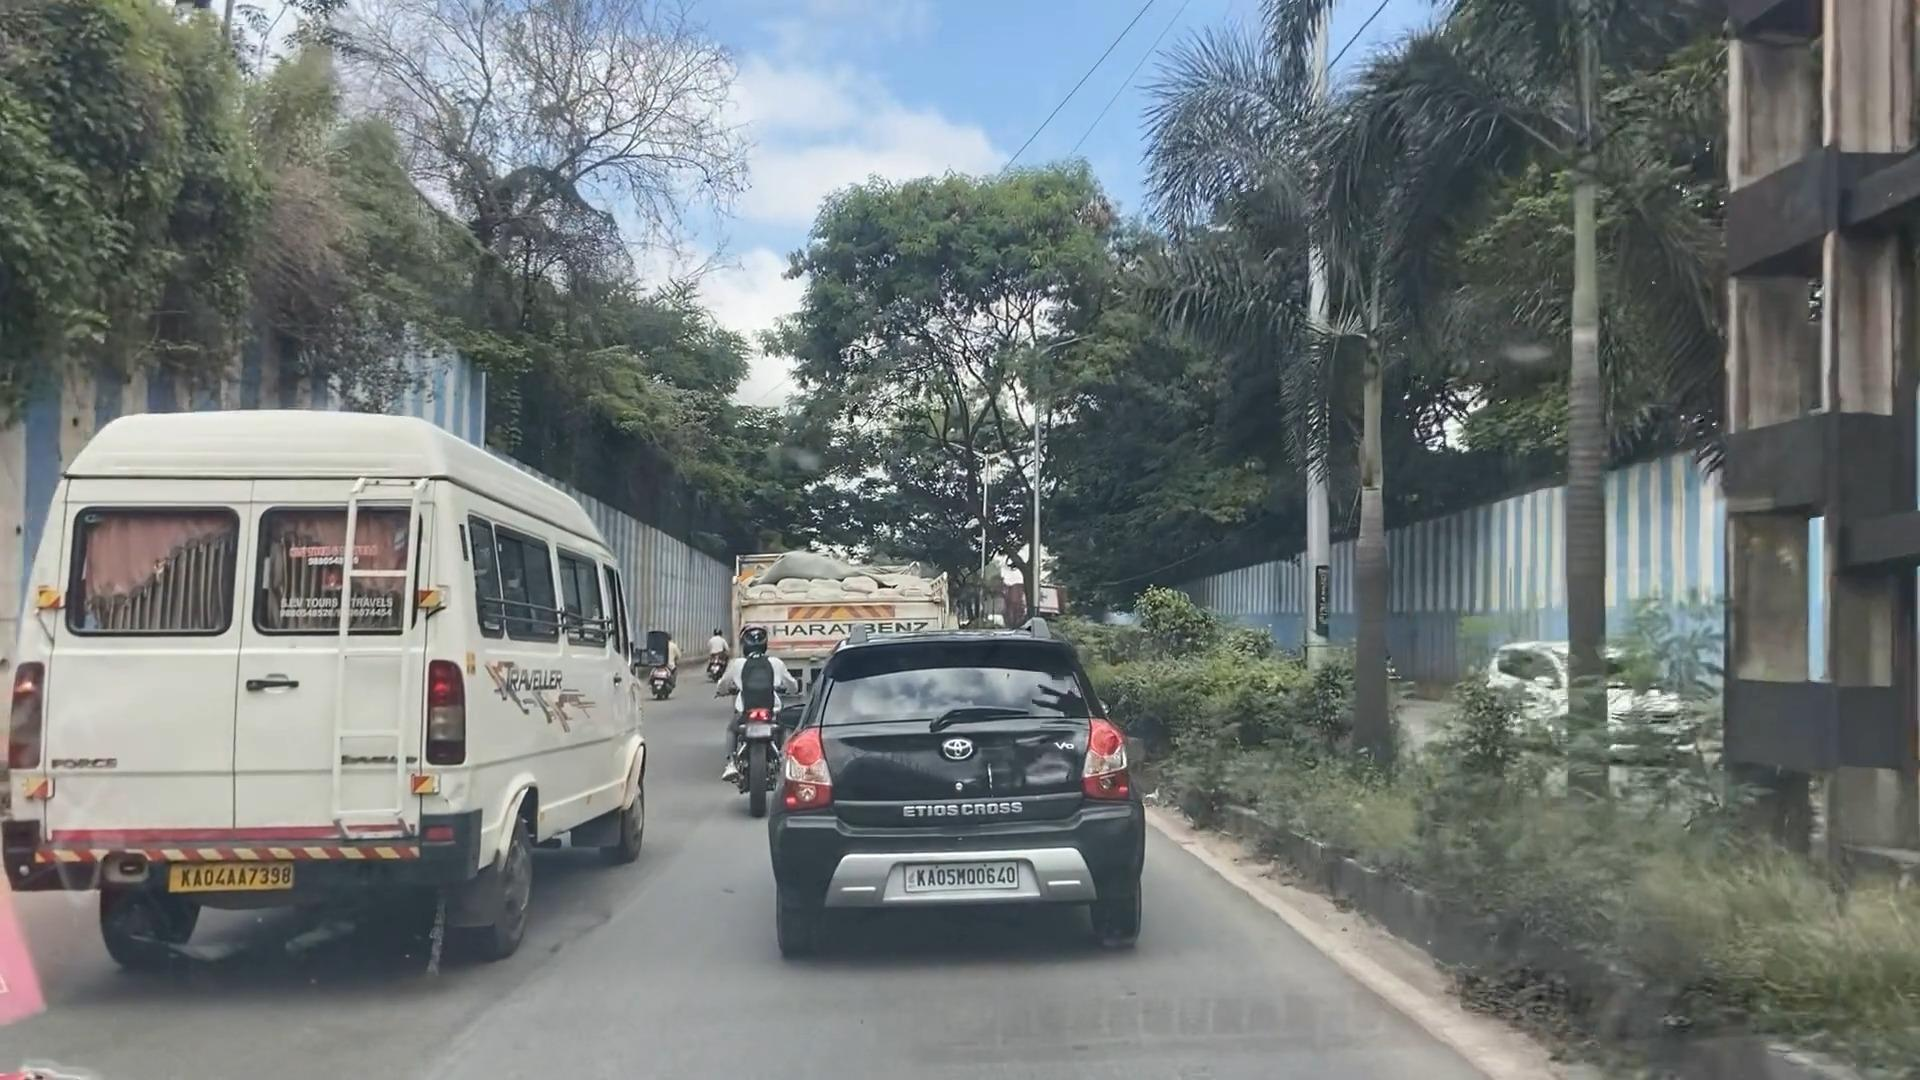HMV: (0, 406, 654, 1000)
LMV: (728, 617, 1151, 1001), (704, 603, 791, 811)
